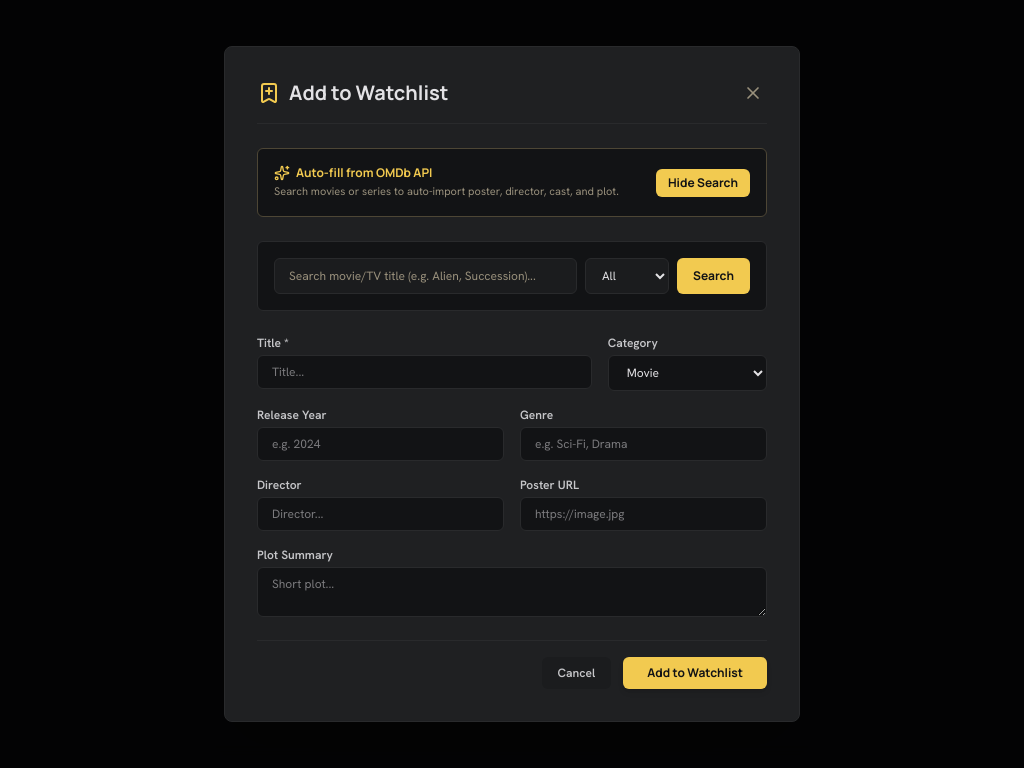
Test: AddWatchlistModal › displays fallback error message when addToWatchlistAction fails without error message
Type "Inception" into the field with placeholder "Title...".
click(424, 372); type("Inception")  # box [257,355,592,389]
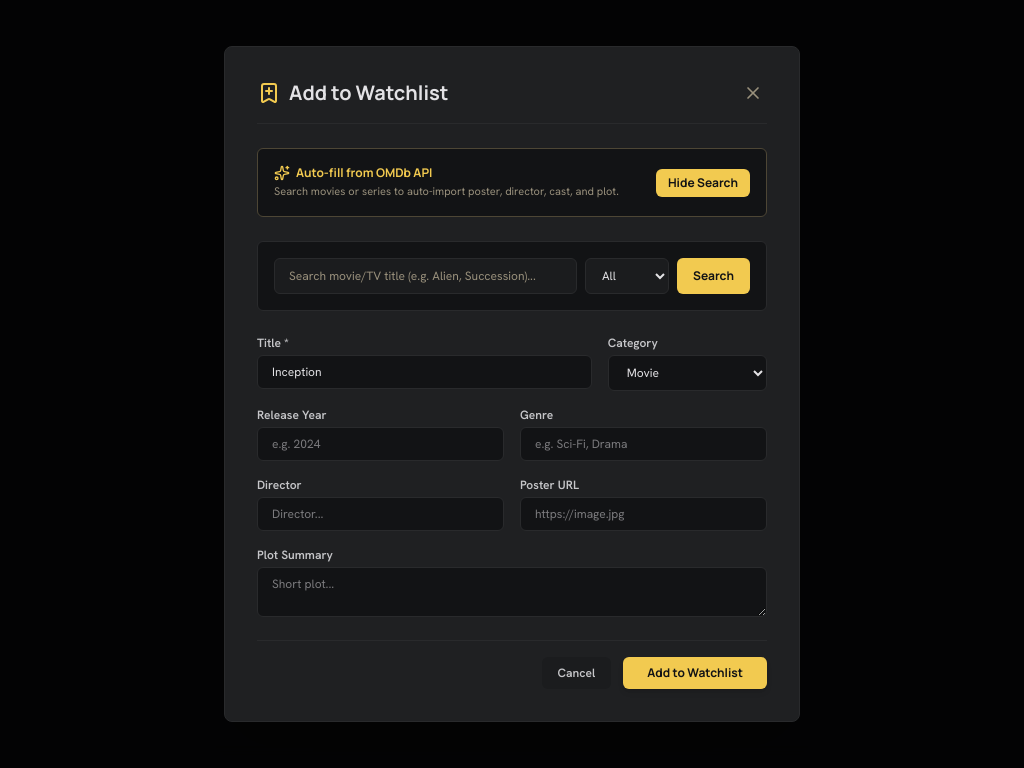
Submit the form named "add to watchlist", box [257,335,767,689]
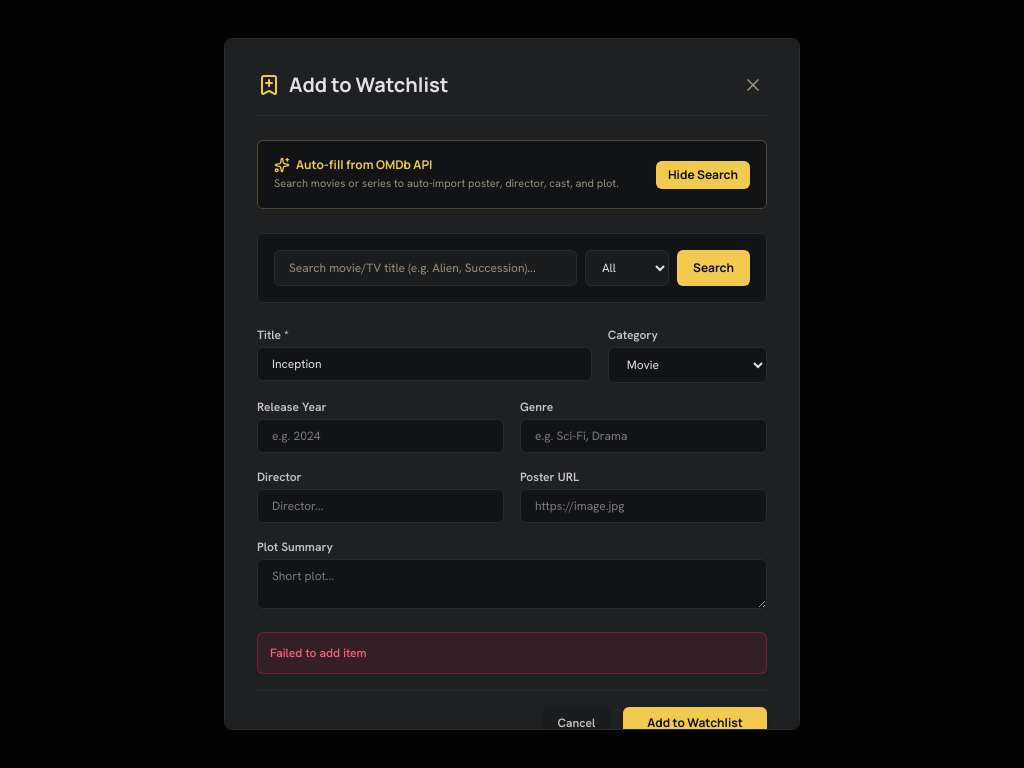
Check: the text "Failed to add item" is shown, box [257,632,767,674]
